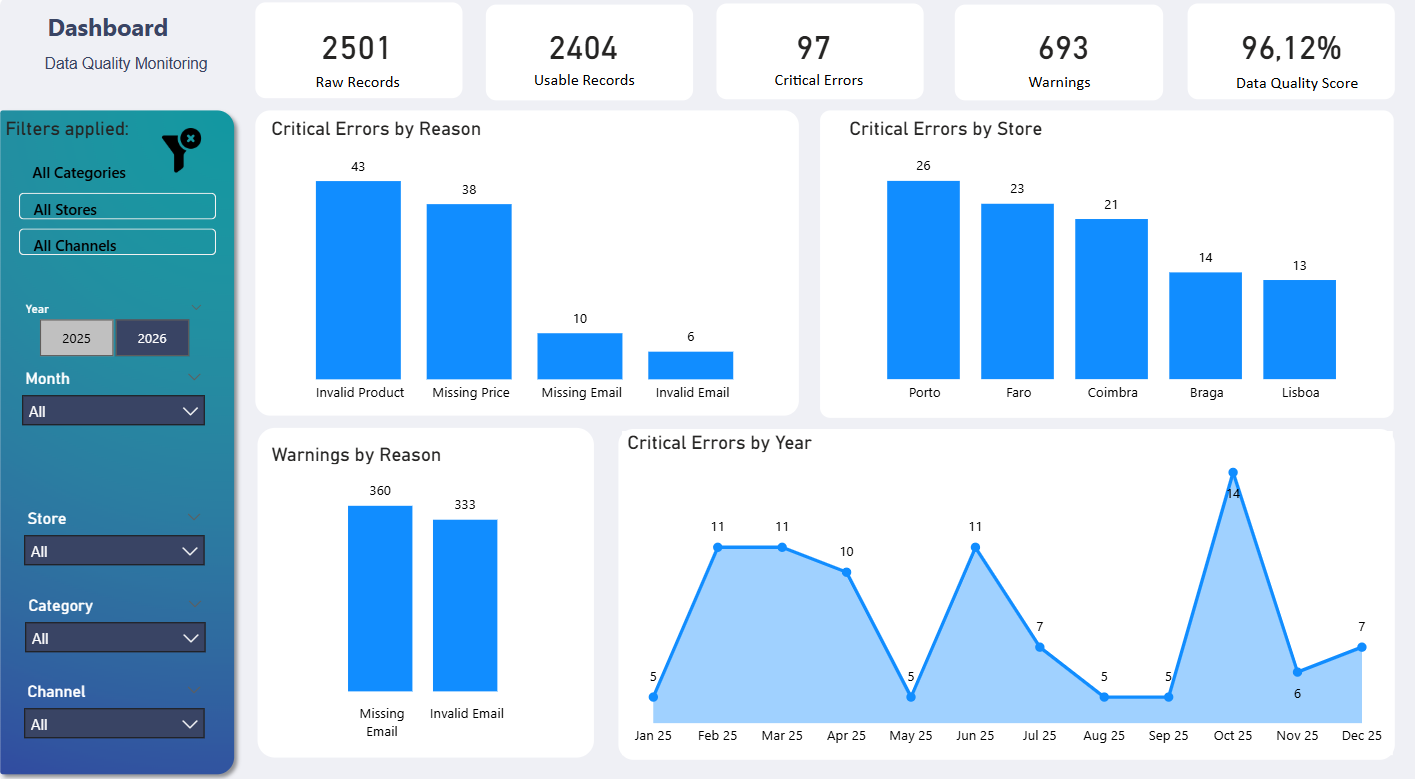

The page's visual inventory and layout, read from the dashboard file:
{"tool":"powerbi","page":{"name":"Data Quality Monitoring","canvas":[1280,720],"ordinal":1},"visuals":[{"type":"card","fields":{"Values":["Measures (2).Raw Records"]},"box":[239.5,0,160.9,98.3],"z":0},{"type":"card","fields":{"Values":["Measures (2).Clean Records"]},"box":[442.2,0,161.9,98.4],"z":1000},{"type":"card","fields":{"Values":["Measures (2).Critical Errors"]},"box":[649.5,0,161.9,98.4],"z":2000},{"type":"card","fields":{"Values":["Measures (2).Warnings"]},"box":[873.4,0,162.1,98.3],"z":3000},{"type":"card","fields":{"Values":["Measures (2).Data Quality Score"]},"box":[1078,0,161.9,98.4],"z":4000},{"type":"columnChart","fields":{"Category":["Sales_Errors.ErrorReason"],"Y":["Measures (2).Critical Errors"]},"box":[239.1,113.2,467.6,265.5],"z":5000},{"type":"columnChart","fields":{"Category":["Sales_Clean.ErrorReason"],"Y":["Measures (2).Warnings"]},"box":[239.1,406.2,284.6,274],"z":6000},{"type":"areaChart","title":"Critical Errors by Year","fields":{"Y":["Measures (2).Critical Errors"],"Category":["DimDate.Date Hierarchy.Year","DimDate.Date Hierarchy.YearQuarter","DimDate.Date Hierarchy.Year Month Name"]},"box":[558.4,395.1,692.4,291.3],"z":7000},{"type":"columnChart","fields":{"Category":["Sales_Errors.Store"],"Y":["Measures (2).Critical Errors"]},"box":[757.9,113,482.8,265.3],"z":8000},{"type":"image","box":[130.8,123.4,63.9,40.1],"z":14000},{"type":"slicer","fields":{"Values":["DimDate.Year"]},"box":[9.6,273.5,183.8,60.9],"z":14001},{"type":"slicer","fields":{"Values":["Stores.Store"]},"box":[11.8,460.5,181.6,78],"z":14003},{"type":"slicer","fields":{"Values":["Products.Category"]},"box":[12.8,538.5,181.6,76.9],"z":14004},{"type":"slicer","fields":{"Values":["Sales_Clean.Channel"]},"box":[11.8,615.4,181.6,83.3],"z":14005},{"type":"cardVisual","title":"Filters applied:","fields":{"Data":["Measures (2).Report Context","Measures (2).Report context stores","Measures (2).Report context channels"]},"box":[0,113.3,211.6,143.2],"z":14006},{"type":"slicer","fields":{"Values":["DimDate.Month"]},"box":[9.6,334.4,183.8,60.9],"z":14007}]}

Visuals, with their boxes in screenshot pixels (x1, y1, x2, y2), scaled from the page's 1280x720 canvas onto the 1415x779 screenshot:
card - Measures (2).Raw Records: (265, 0, 443, 106)
card - Measures (2).Clean Records: (489, 0, 668, 106)
card - Measures (2).Critical Errors: (718, 0, 897, 106)
card - Measures (2).Warnings: (966, 0, 1145, 106)
card - Measures (2).Data Quality Score: (1192, 0, 1371, 106)
columnChart - Sales_Errors.ErrorReason x Measures (2).Critical Errors: (264, 122, 781, 410)
columnChart - Sales_Clean.ErrorReason x Measures (2).Warnings: (264, 439, 579, 736)
"Critical Errors by Year" areaChart: (617, 427, 1383, 743)
columnChart - Sales_Errors.Store x Measures (2).Critical Errors: (838, 122, 1372, 409)
image: (145, 134, 215, 177)
slicer - DimDate.Year: (11, 296, 214, 362)
slicer - Stores.Store: (13, 498, 214, 583)
slicer - Products.Category: (14, 583, 215, 666)
slicer - Sales_Clean.Channel: (13, 666, 214, 756)
"Filters applied:" cardVisual: (0, 123, 234, 278)
slicer - DimDate.Month: (11, 362, 214, 428)
